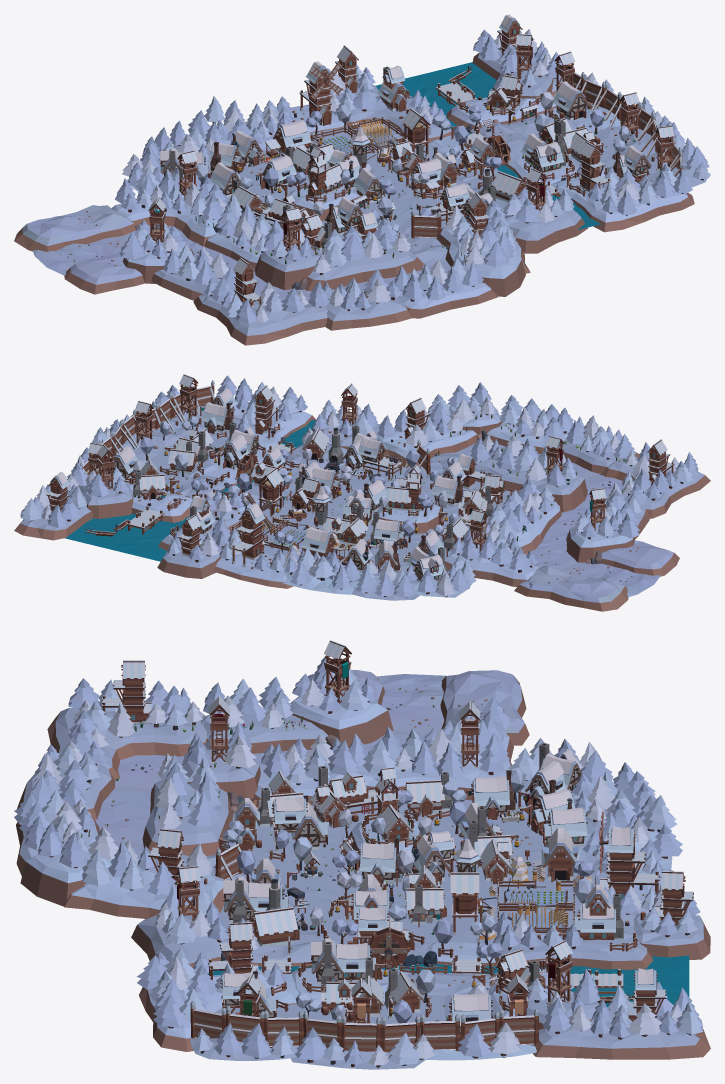
The model's file is Village_Snow.glb.
The picture shows the model from 3 angles, top to bottom: view 1: azimuth 30°, elevation 25°; view 2: azimuth 150°, elevation 25°; view 3: azimuth 270°, elevation 25°; orthographic projection. The views are drawn at different scales.
Visible parts, largest first — view 1: TB_Env_Mound_Corner_B (×2), TB_Env_Mound_Big_C, TB_Env_Mound_Corner_A, TB_Env_Mound_Med_A (3), TB_Env_Mound_Med_C, TB_Env_Mound_Med_A (4), TB_Env_Mound_Med_A, TB_Bd_House (×3), TB_Env_Mound_Med_B (1), TB_Env_Mound_Small_A, TB_Bd_House_Open (×2), TB_Env_Mound_Small_B (+39 smaller); view 2: TB_Env_Mound_Big_C, TB_Env_Mound_Corner_B (×2), TB_Bd_House (×4), TB_Bd_WoodHouse (×4), TB_Env_Mound_Med_C, TB_Env_Tile_Water_A (3), TB_Env_Mound_Corner_A, TB_Env_Mound_Big_B, TB_Bd_House_Open (×3), TB_Env_Mound_Med_B (2), TB_Env_Mound_Small_B (3), TB_Env_Mound_Med_A (2) (+52 smaller); view 3: TB_Bd_WoodHouse (×6), TB_Bd_House (×5), TB_Env_Mound_Med_A (2), TB_Env_Mound_Corner_B (×2), TB_Env_Mound_Corner_A, TB_Env_Mound_Big_C, TB_Bd_House_Open (×4), TB_Env_Mound_Big_B, TB_Bd_Wood_Tall (×3), TB_Env_Mound_Corner_A (1), TB_Env_Tile_Grass_A (6), TB_Env_Mound_Small_B (3) (+68 smaller).
Boxes of the visible parts, x1,y1,x2,y2 form: TB_Env_Mound_Corner_B (×2): [111, 174, 694, 246]; TB_Env_Mound_Big_C: [14, 205, 135, 251]; TB_Env_Mound_Corner_A: [193, 292, 328, 345]; TB_Env_Mound_Med_A (3): [305, 242, 423, 291]; TB_Env_Mound_Med_C: [64, 252, 144, 294]; TB_Env_Mound_Med_A (4): [505, 207, 587, 253]; TB_Env_Mound_Med_A: [325, 292, 412, 330]; TB_Bd_House (×3): [210, 141, 564, 203]; TB_Env_Mound_Med_B (1): [397, 279, 497, 318]; TB_Env_Mound_Small_A: [254, 244, 320, 290]; TB_Bd_House_Open (×2): [262, 81, 590, 188]; TB_Env_Mound_Small_B: [460, 255, 525, 296]; TB_Env_Mound_Big_C: [514, 565, 628, 611]; TB_Env_Mound_Corner_B (×2): [224, 399, 542, 586]; TB_Bd_House (×4): [201, 402, 463, 581]; TB_Bd_WoodHouse (×4): [138, 428, 412, 510]; TB_Env_Mound_Med_C: [600, 540, 679, 576]; TB_Env_Tile_Water_A (3): [102, 520, 183, 561]; TB_Env_Mound_Corner_A: [602, 456, 710, 518]; TB_Env_Mound_Big_B: [377, 425, 477, 467]; TB_Bd_House_Open (×3): [105, 435, 402, 546]; TB_Env_Mound_Med_B (2): [213, 552, 293, 588]; TB_Env_Mound_Small_B (3): [566, 523, 634, 562]; TB_Env_Mound_Med_A (2): [14, 491, 92, 540]; TB_Bd_WoodHouse (×6): [249, 780, 511, 1012]; TB_Bd_House (×5): [291, 775, 587, 883]; TB_Env_Mound_Med_A (2): [533, 1016, 710, 1059]; TB_Env_Mound_Corner_B (×2): [139, 730, 513, 1051]; TB_Env_Mound_Corner_A: [47, 707, 206, 780]; TB_Env_Mound_Big_C: [440, 670, 529, 745]; TB_Bd_House_Open (×4): [246, 761, 570, 1035]; TB_Env_Mound_Big_B: [64, 866, 225, 918]; TB_Bd_Wood_Tall (×3): [102, 680, 659, 985]; TB_Env_Mound_Corner_A (1): [493, 910, 653, 969]; TB_Env_Tile_Grass_A (6): [225, 847, 341, 903]; TB_Env_Mound_Small_B (3): [290, 694, 393, 748].
Bounding box in the file's own units: 142 × 17.37 × 105.
Materials: 1 (1 with a texture image).
